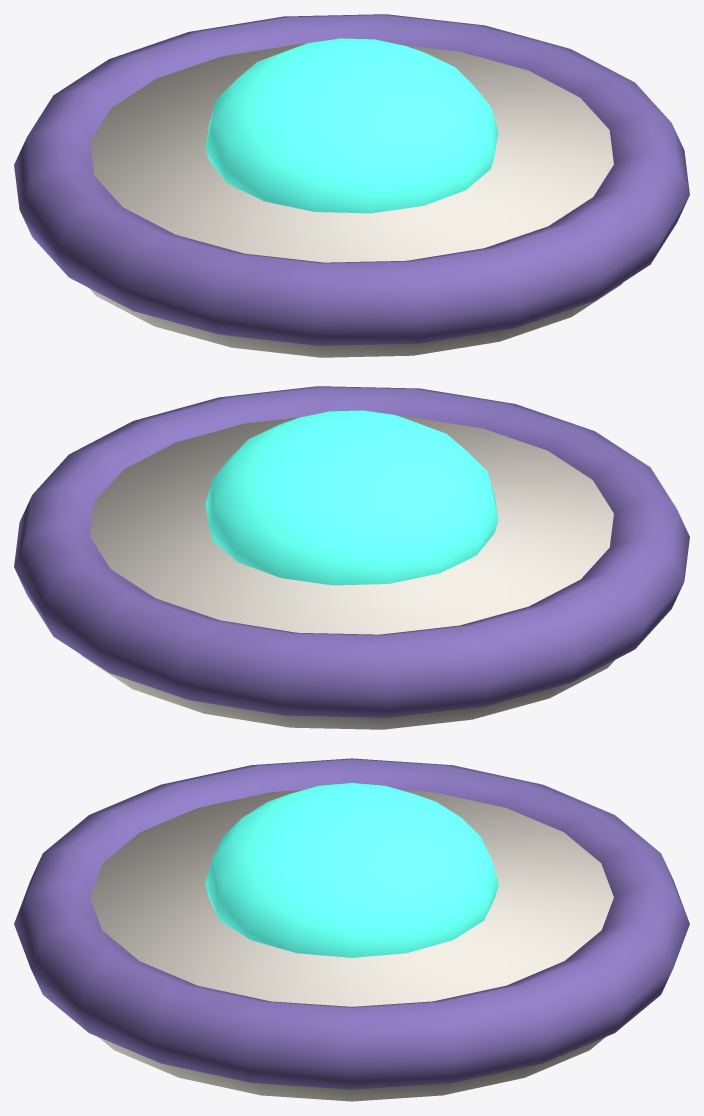
The model's file is TaskBoard_OwnerIcon.fbx.
3 views of the same model, one above another, from view 1: azimuth 30°, elevation 25°; view 2: azimuth 150°, elevation 25°; view 3: azimuth 270°, elevation 25° (orthographic).
Visible parts, largest first — view 1: Owner_Rim, Owner_Disc, Owner_Emblem; view 2: Owner_Rim, Owner_Disc, Owner_Emblem; view 3: Owner_Rim, Owner_Disc, Owner_Emblem.
Boxes of the visible parts, x1=… form: Owner_Rim: x1=14, y1=14, x2=689, y2=345; Owner_Disc: x1=89, y1=44, x2=622, y2=357; Owner_Emblem: x1=205, y1=38, x2=498, y2=213; Owner_Rim: x1=14, y1=386, x2=689, y2=717; Owner_Disc: x1=81, y1=416, x2=614, y2=729; Owner_Emblem: x1=205, y1=410, x2=498, y2=585; Owner_Rim: x1=14, y1=758, x2=689, y2=1089; Owner_Disc: x1=90, y1=790, x2=613, y2=1101; Owner_Emblem: x1=205, y1=783, x2=498, y2=957.
Size of the model in its own units: 2.3 by 0.65 by 2.3.
